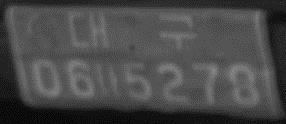0: (32, 58, 62, 99)
2: (157, 61, 188, 104)
5: (123, 62, 154, 101)
6: (65, 58, 96, 99)
7: (188, 59, 221, 108)
8: (227, 62, 261, 106)
나: (94, 62, 122, 99)
대구_D: (66, 8, 198, 53)
영: (26, 12, 59, 47)
